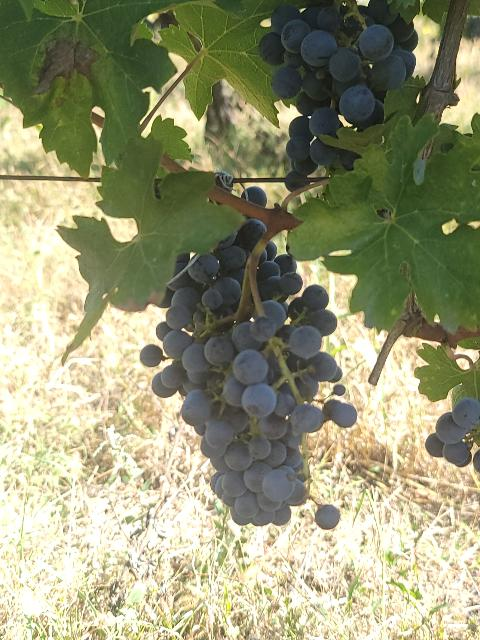grapes: (140, 219, 358, 526), (259, 0, 416, 190)
